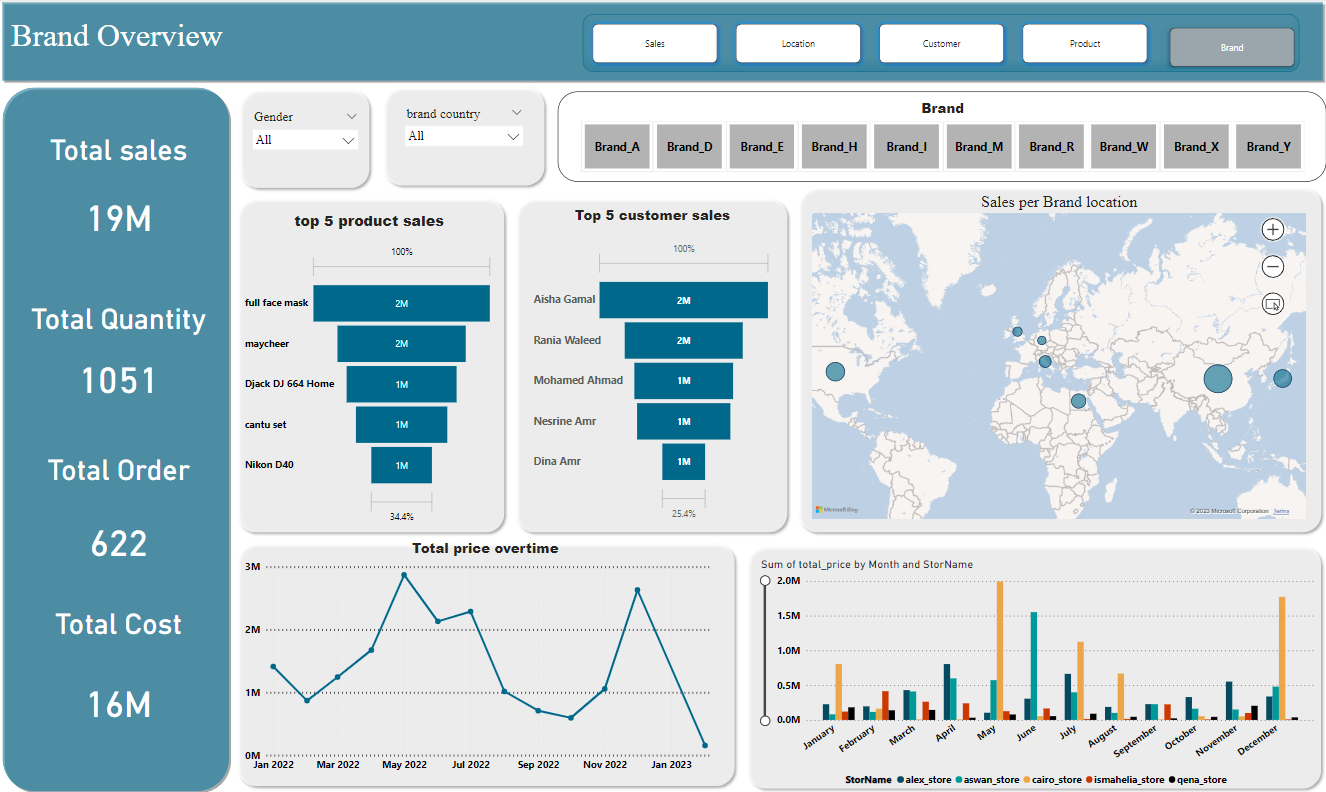

Layout of this report page (visuals, bound fields, positions):
{"tool":"powerbi","page":{"name":"Brand","canvas":[2000,1200],"ordinal":4},"visuals":[{"type":"shape","box":[0,0,2000,128.4],"z":0},{"type":"shape","box":[0,128.6,351.8,1071.4],"z":1000},{"type":"pageNavigator","box":[880.4,23.2,1080.4,87.5],"z":2000},{"type":"card","fields":{"Values":["FOrder.total_price"]},"box":[29.8,275,300,96.4],"z":3000},{"type":"card","fields":{"Values":["FOrder.Quantity"]},"box":[29.8,519.6,300,96.4],"z":4000},{"type":"card","fields":{"Values":["FOrder.sub_total"]},"box":[30.1,1007.8,299.5,96.1],"z":5000},{"type":"card","fields":{"Values":["FOrder.Order ID"]},"box":[29.8,764.3,300,96.4],"z":6000},{"type":"textbox","box":[29.8,198.2,300,67.9],"z":7000},{"type":"textbox","box":[29.8,451.8,300,67.9],"z":8000},{"type":"textbox","box":[29.8,680.4,300,67.9],"z":9000},{"type":"textbox","box":[29.8,912.5,300,80.4],"z":10000},{"type":"textbox","box":[126.8,19.6,457.1,87.5],"z":11000},{"type":"slicer","title":"Brand","fields":{"Values":["DimBrand.BrandName"]},"box":[842.1,139.4,1158.6,135.6],"z":12000},{"type":"shape","box":[570,124.3,260,165.8],"z":13000},{"type":"slicer","fields":{"Values":["DimBrand.brand country"]},"box":[600.2,156.4,199.7,99.8],"z":14000},{"type":"shape","box":[366.1,125,212.5,164.3],"z":15000},{"type":"slicer","fields":{"Values":["Dimcastomers.Gender"]},"box":[389.3,160.7,180.4,96.4],"z":16000},{"type":"shape","box":[1195.4,274.2,805.5,537.7],"z":17000},{"type":"map","title":"Sales per Brand location","fields":{"Size":["FOrder.total_price"],"Category":["DimBrand.brand country"]},"box":[1221.1,291.3,754.1,497],"z":18000},{"type":"shape","box":[351.3,291.3,419.9,520.6],"z":19000},{"type":"funnel","title":"top 5 product sales","fields":{"Category":["Dimproduct.productName"],"Y":["FOrder.total_price"]},"box":[365.5,318.4,384.3,493.6],"z":20000},{"type":"shape","box":[351.3,811.9,766.9,383.5],"z":21000},{"type":"lineChart","title":"Total price overtime ","fields":{"Y":["FOrder.total_price"],"Category":["DimDate.orderDate.Variation.Date Hierarchy.Year","DimDate.orderDate.Variation.Date Hierarchy.Quarter","DimDate.orderDate.Variation.Date Hierarchy.Month"]},"box":[366.3,811.9,734.8,362],"z":22000},{"type":"shape","box":[771.2,291.3,426.3,520.6],"z":23000},{"type":"funnel","title":"Top 5 customer sales","fields":{"Category":["Dimcastomers.Name"],"Y":["FOrder.total_price"]},"box":[801.2,310.6,368.5,501.3],"z":24000},{"type":"shape","box":[1118.3,816.2,882.6,383.5],"z":25000},{"type":"clusteredColumnChart","fields":{"Series":["DimStor.StorName"],"Y":["FOrder.total_price"],"Category":["DimDate.orderDate.Variation.Date Hierarchy.Month"]},"box":[1143.5,842.1,844,354.2],"z":26000},{"type":"image","box":[10,10,152,84],"z":26001}]}

Visuals, with their boxes in screenshot pixels (x1, y1, x2, y2), scaled from the page's 2000x1200 canvas onto the 1326x792 screenshot:
shape: (x1=0, y1=0, x2=1325, y2=85)
shape: (x1=0, y1=85, x2=233, y2=791)
pageNavigator: (x1=584, y1=15, x2=1300, y2=73)
card - FOrder.total_price: (x1=20, y1=182, x2=219, y2=245)
card - FOrder.Quantity: (x1=20, y1=343, x2=219, y2=407)
card - FOrder.sub_total: (x1=20, y1=665, x2=219, y2=729)
card - FOrder.Order ID: (x1=20, y1=504, x2=219, y2=568)
textbox: (x1=20, y1=131, x2=219, y2=176)
textbox: (x1=20, y1=298, x2=219, y2=343)
textbox: (x1=20, y1=449, x2=219, y2=494)
textbox: (x1=20, y1=602, x2=219, y2=655)
textbox: (x1=84, y1=13, x2=387, y2=71)
"Brand" slicer: (x1=558, y1=92, x2=1325, y2=182)
shape: (x1=378, y1=82, x2=550, y2=191)
slicer - DimBrand.brand country: (x1=398, y1=103, x2=530, y2=169)
shape: (x1=243, y1=82, x2=384, y2=191)
slicer - Dimcastomers.Gender: (x1=258, y1=106, x2=378, y2=170)
shape: (x1=793, y1=181, x2=1325, y2=536)
"Sales per Brand location" map: (x1=810, y1=192, x2=1310, y2=520)
shape: (x1=233, y1=192, x2=511, y2=536)
"top 5 product sales" funnel: (x1=242, y1=210, x2=497, y2=536)
shape: (x1=233, y1=536, x2=741, y2=789)
"Total price overtime " lineChart: (x1=243, y1=536, x2=730, y2=775)
shape: (x1=511, y1=192, x2=794, y2=536)
"Top 5 customer sales" funnel: (x1=531, y1=205, x2=776, y2=536)
shape: (x1=741, y1=539, x2=1325, y2=791)
clusteredColumnChart - DimStor.StorName x FOrder.total_price: (x1=758, y1=556, x2=1318, y2=790)
image: (x1=7, y1=7, x2=107, y2=62)
